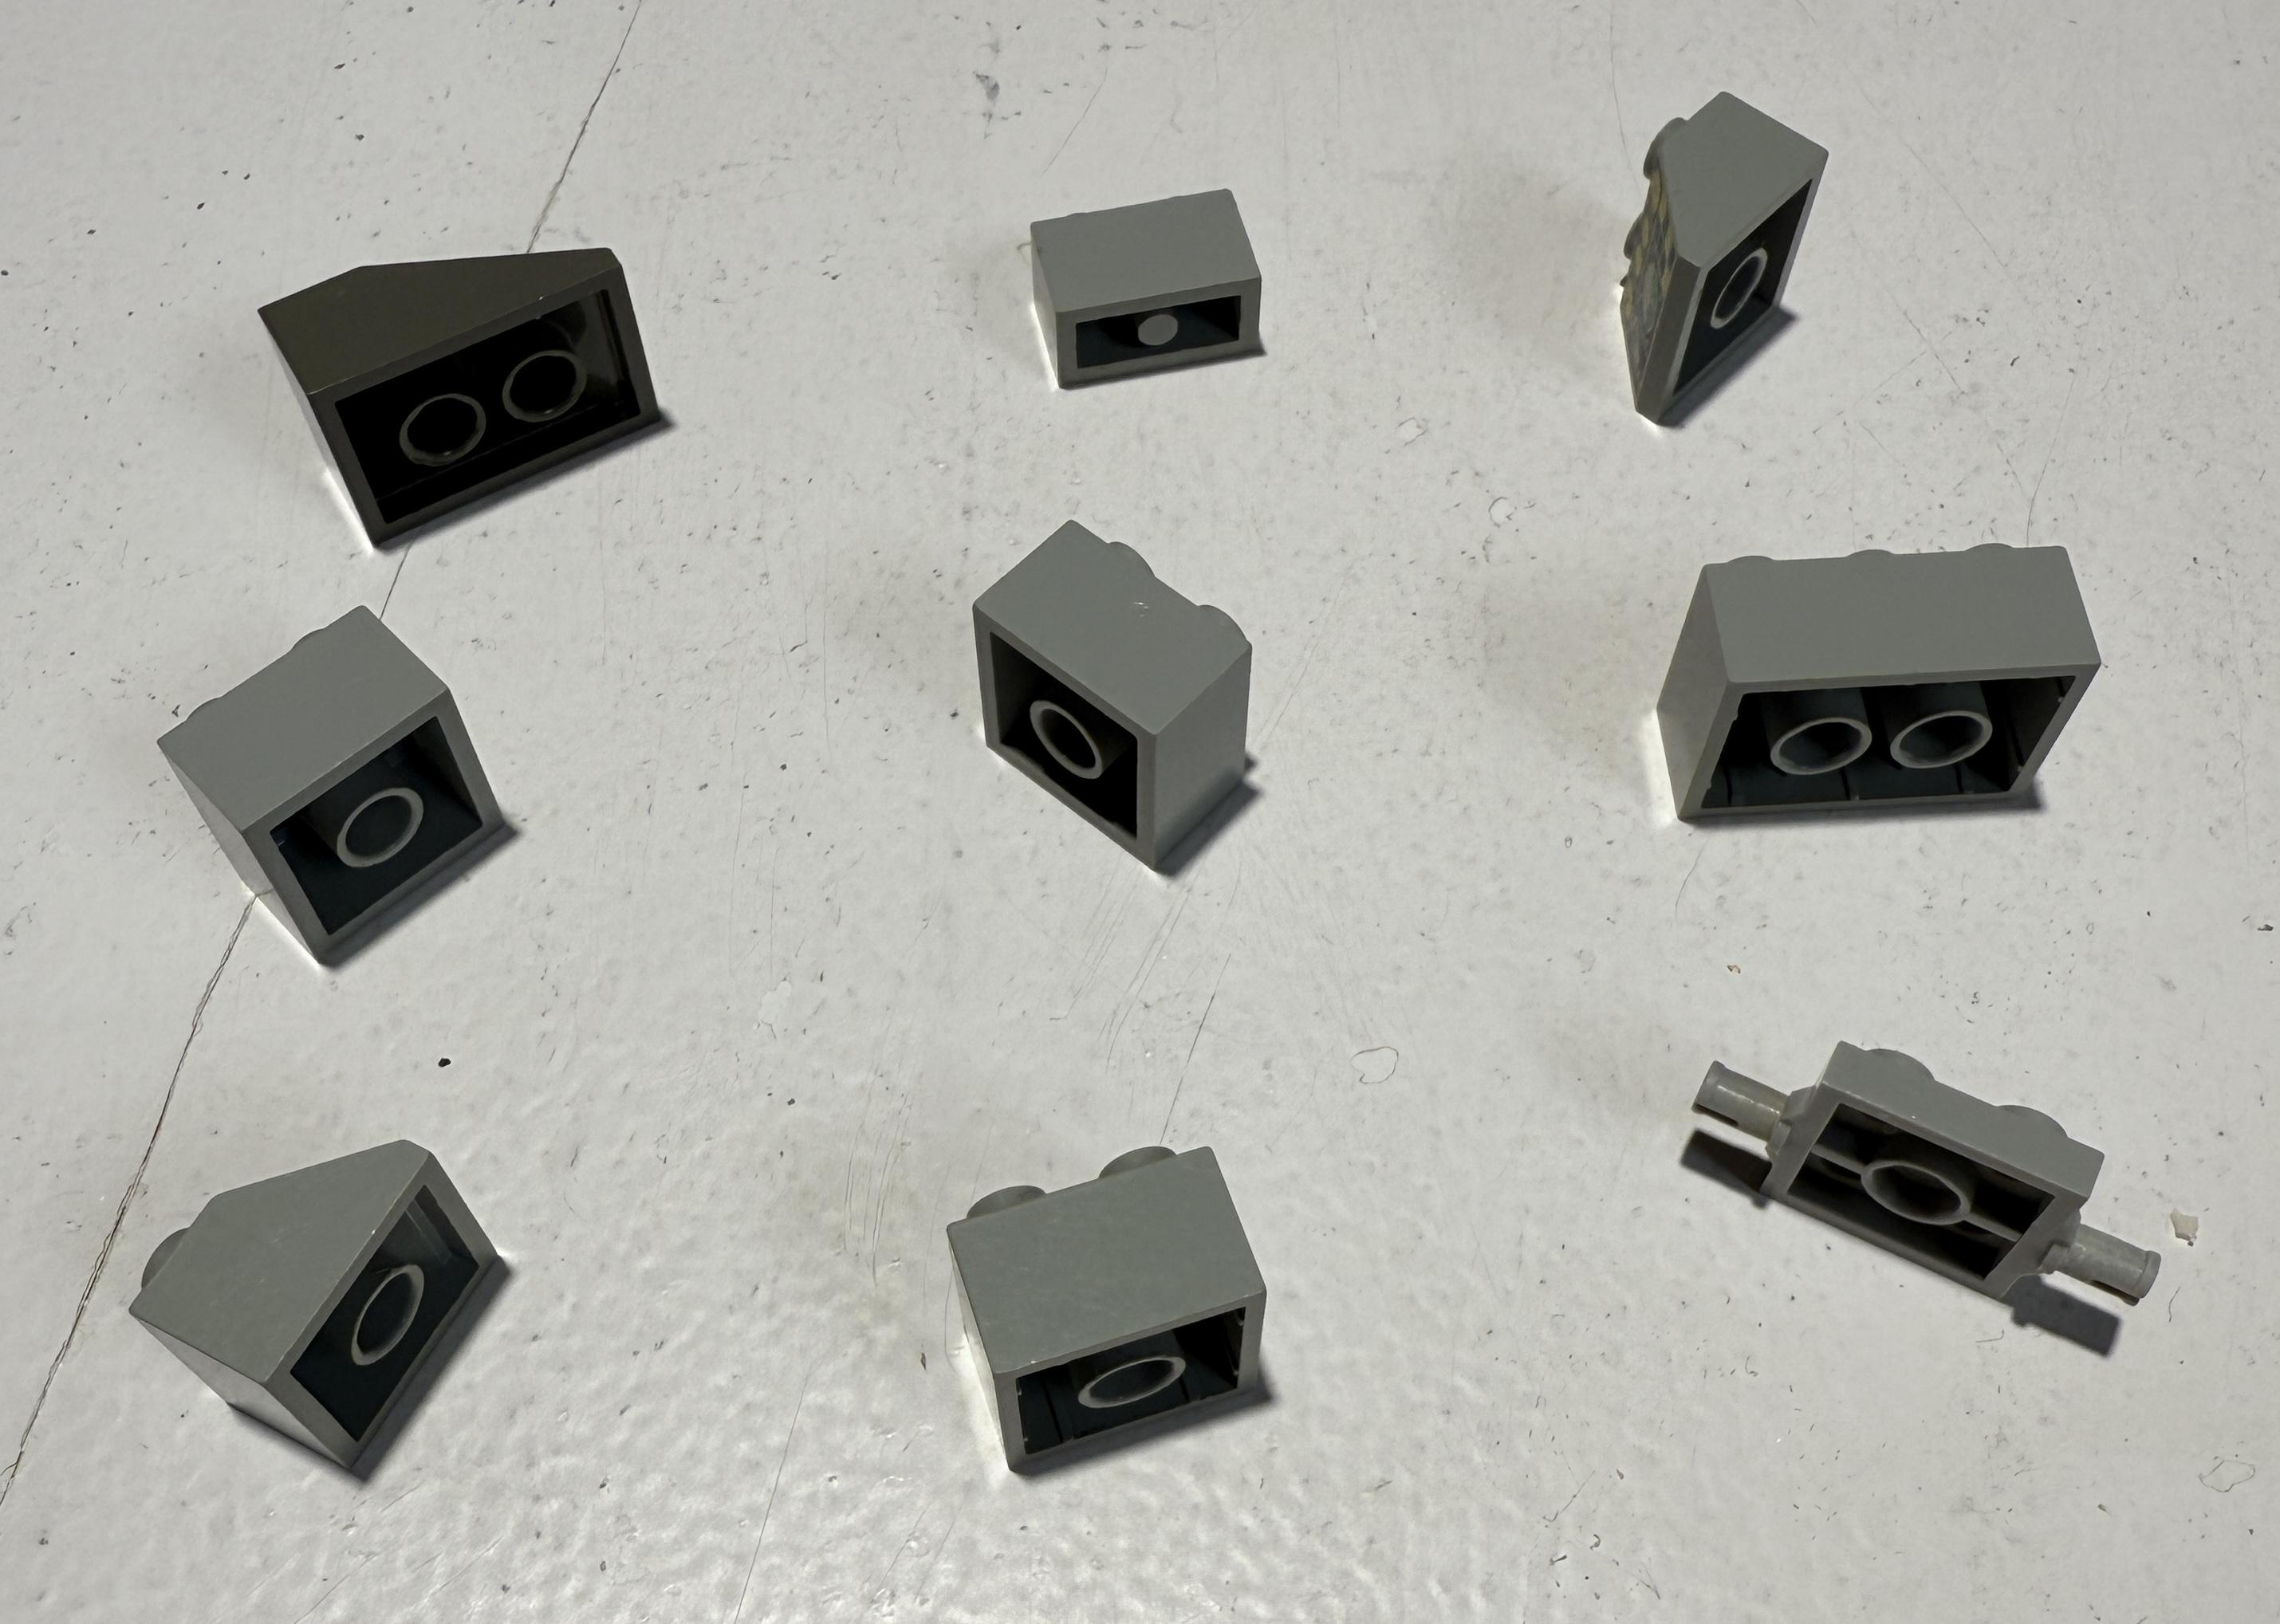Special_02: (93, 1130, 582, 1496), (1584, 83, 1863, 452)
brick_1x2: (977, 142, 1357, 459)
brick_2x2: (128, 578, 592, 1004), (881, 1120, 1304, 1490), (912, 487, 1315, 875)
brick_2x3: (1593, 524, 2117, 870)
